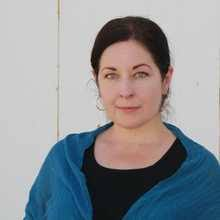middle_eastern_Female: (92, 35, 179, 139)
